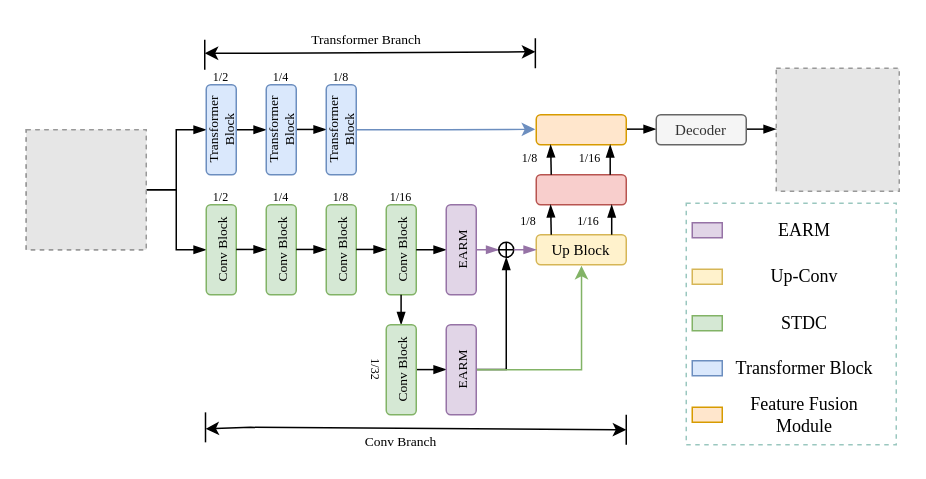
Some shapes in this 926 by 479 pixel diagram are drawn without their labels. Grey dashed boxes stand in for pictures. Each missing label, with the centre of its shape:
CF Block: (580,189)
FFM: (580,129)
